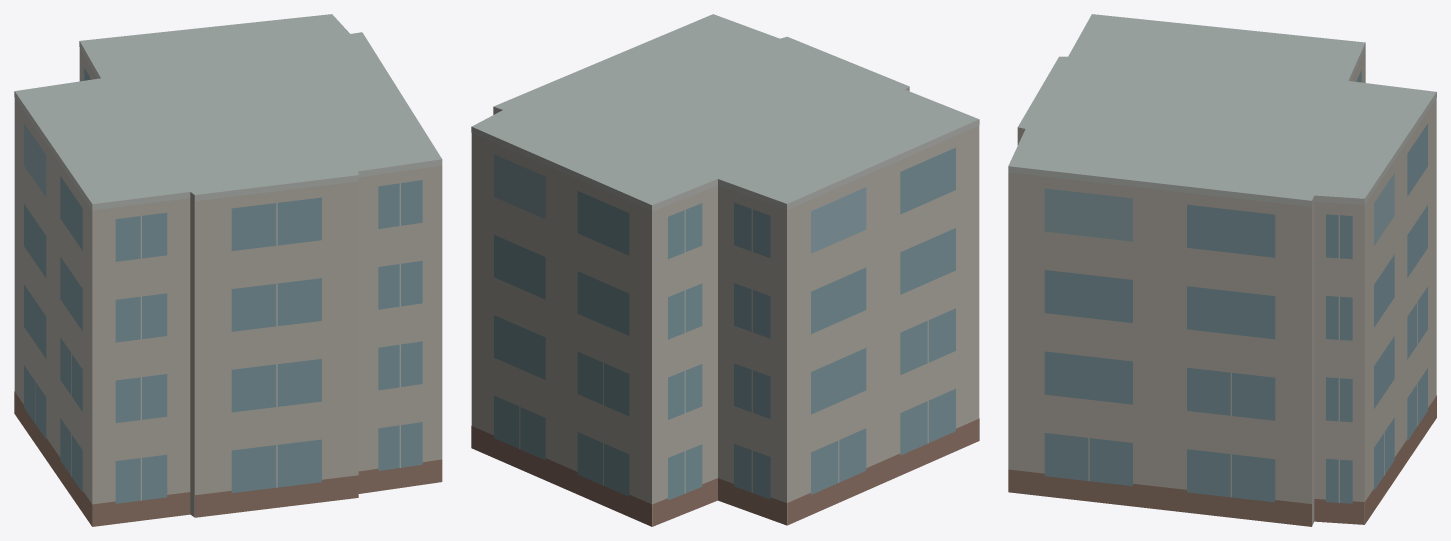
Rendered from survey-upis-32741857.glb.
3 renders of one model, left to right at view 1: azimuth 30°, elevation 25°; view 2: azimuth 150°, elevation 25°; view 3: azimuth 270°, elevation 25°, orthographic.
Parts seen in each view (by area): view 1: survey-upis-32741857.tmp; view 2: survey-upis-32741857.tmp; view 3: survey-upis-32741857.tmp.
Part boxes in pixels (<box>): survey-upis-32741857.tmp: <box>14,14,442,526</box>; survey-upis-32741857.tmp: <box>471,14,979,526</box>; survey-upis-32741857.tmp: <box>1008,14,1436,526</box>.
Bounding box in the file's own units: 15.74 × 12.8 × 15.26.
